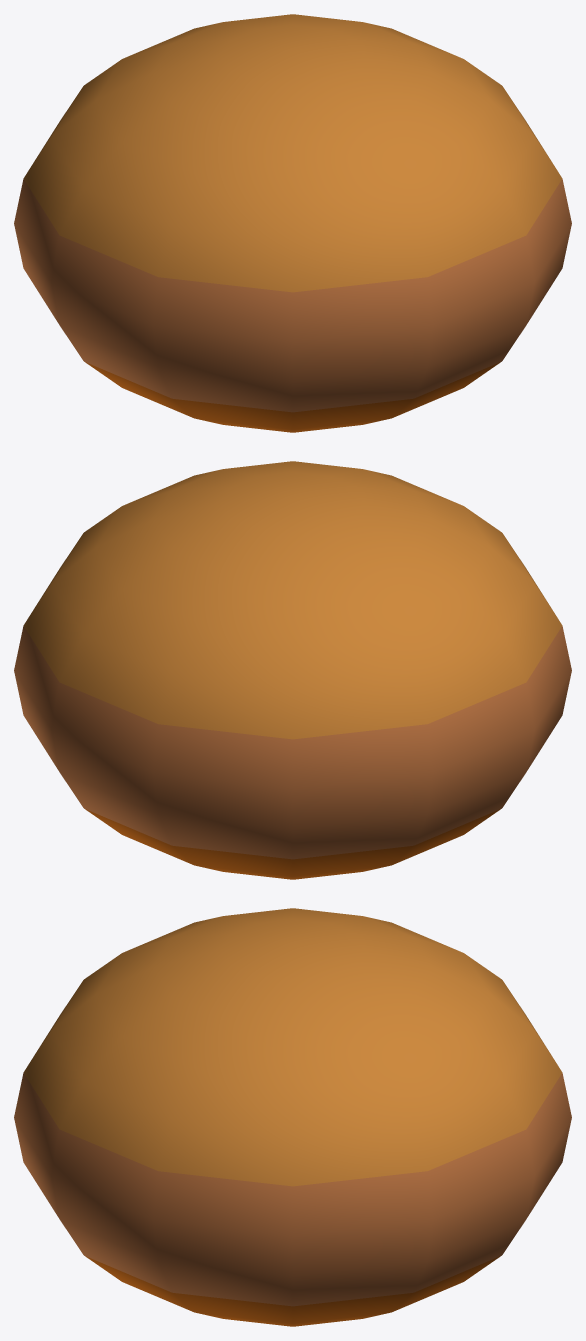
File: bush-28_col.fbx
3 views of the same model, one above another, from view 1: azimuth 30°, elevation 25°; view 2: azimuth 150°, elevation 25°; view 3: azimuth 270°, elevation 25° (orthographic).
Visible parts, largest first — view 1: bush-28.col; view 2: bush-28.col; view 3: bush-28.col.
Part boxes in pixels (<box>): bush-28.col: <box>14,14,571,432</box>; bush-28.col: <box>14,461,571,879</box>; bush-28.col: <box>14,908,571,1326</box>.
Size of the model in its own units: 0.0585 by 0.0401 by 0.0585.
1 material, 1 textured.
